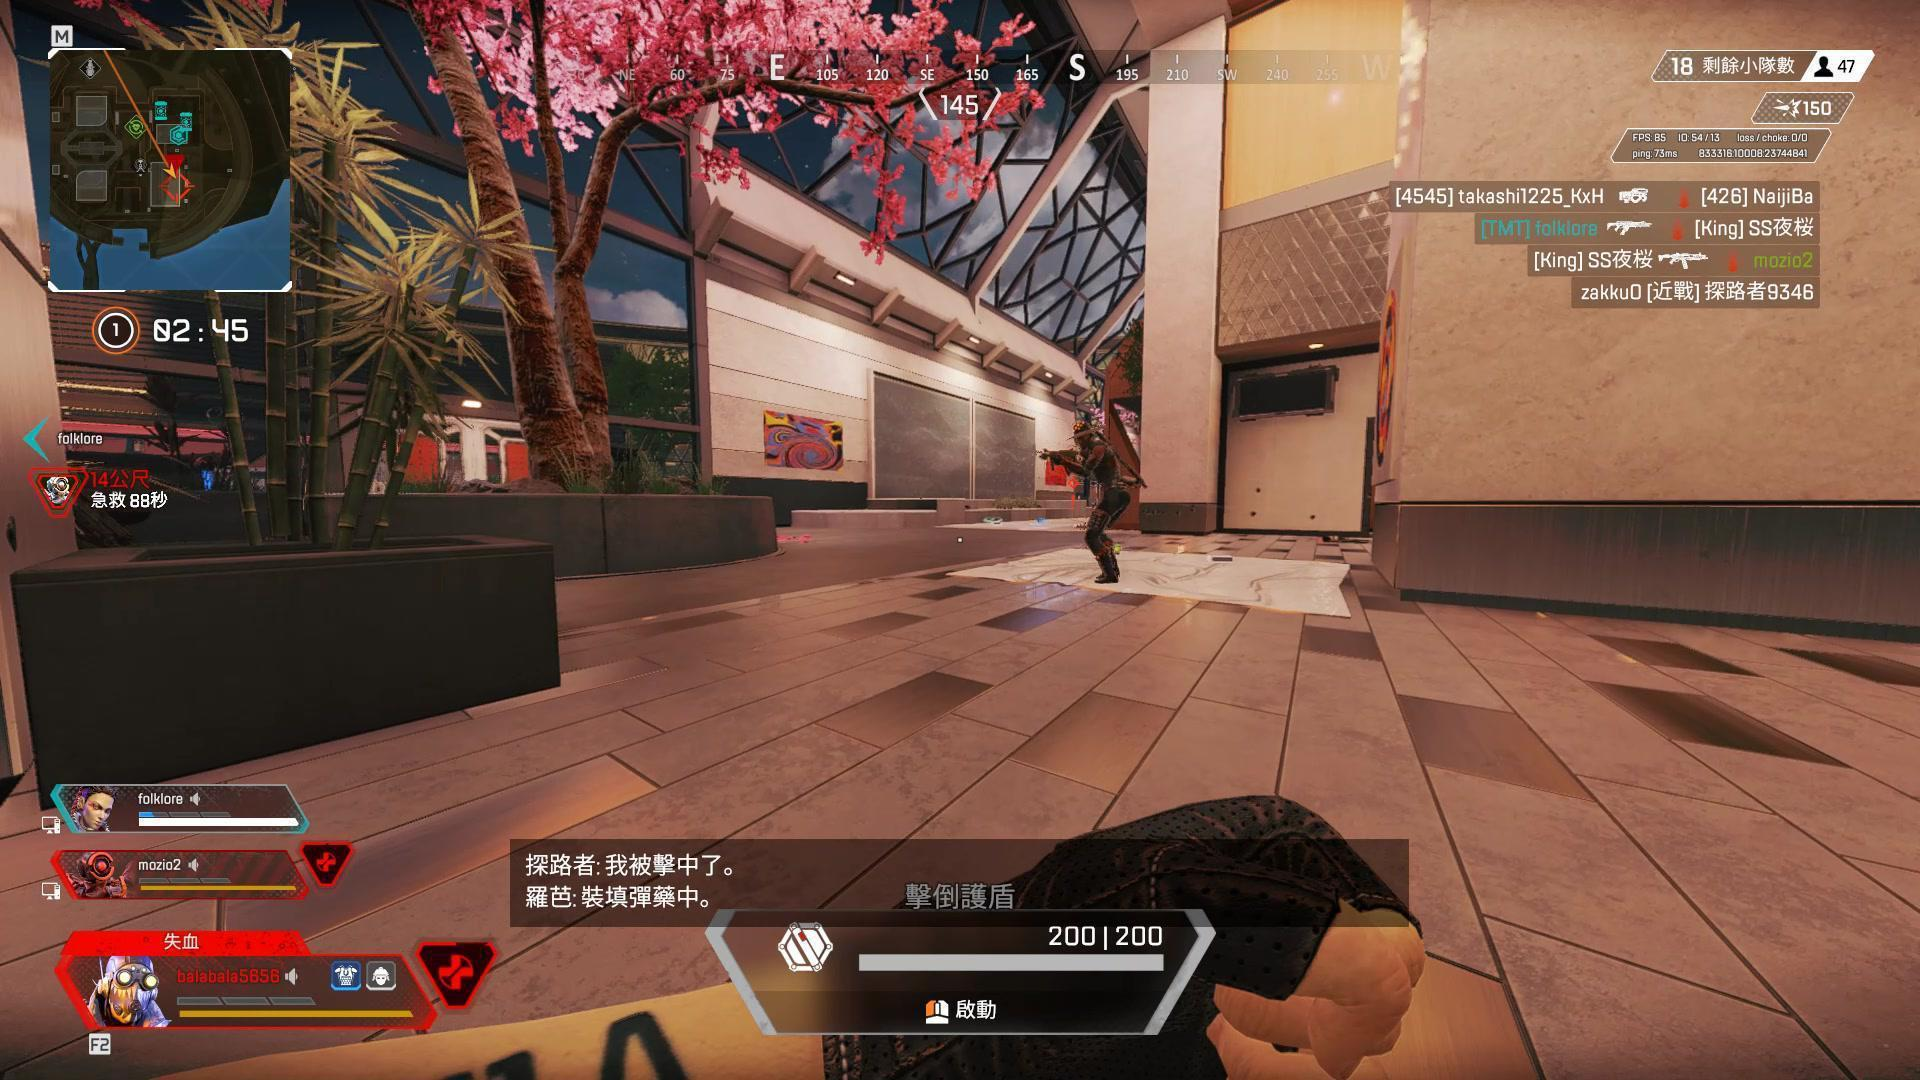avatar: (1072, 423, 1134, 585)
